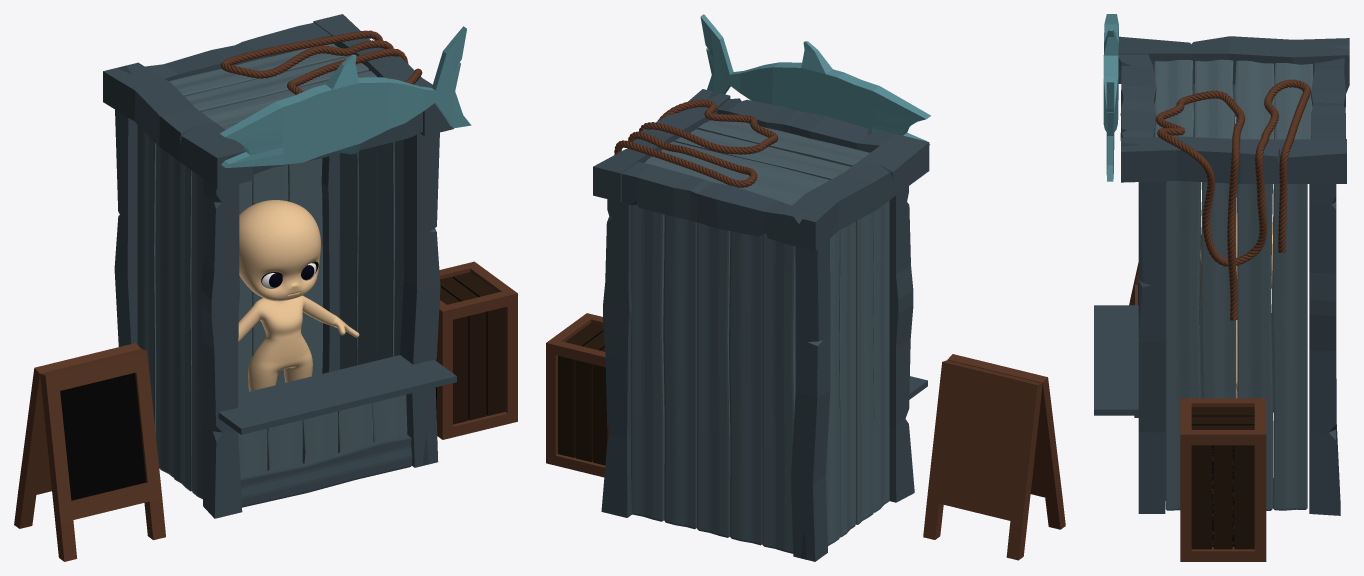
The model's file is Playtest1Shop (1).fbx.
3 views of the same model, side by side, from view 1: azimuth 30°, elevation 25°; view 2: azimuth 150°, elevation 25°; view 3: azimuth 270°, elevation 25° (orthographic). The views are drawn at different scales.
Parts seen in each view (by area): view 1: Left1.002; view 2: Left1.002; view 3: Left1.002.
Boxes of the visible parts, x1,y1,x2,y2 form: Left1.002: (14,14,517,561); Left1.002: (546,14,1065,561); Left1.002: (1094,14,1349,561).
Size of the model in its own units: 1051 by 923 by 488.
